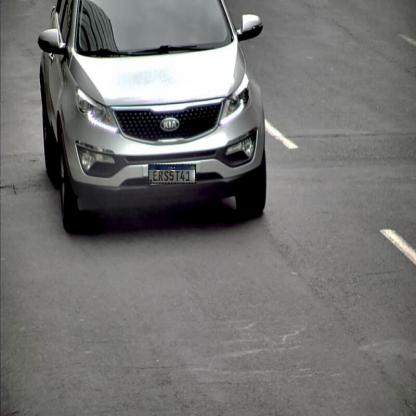PlacaM: (148, 164, 196, 184)
